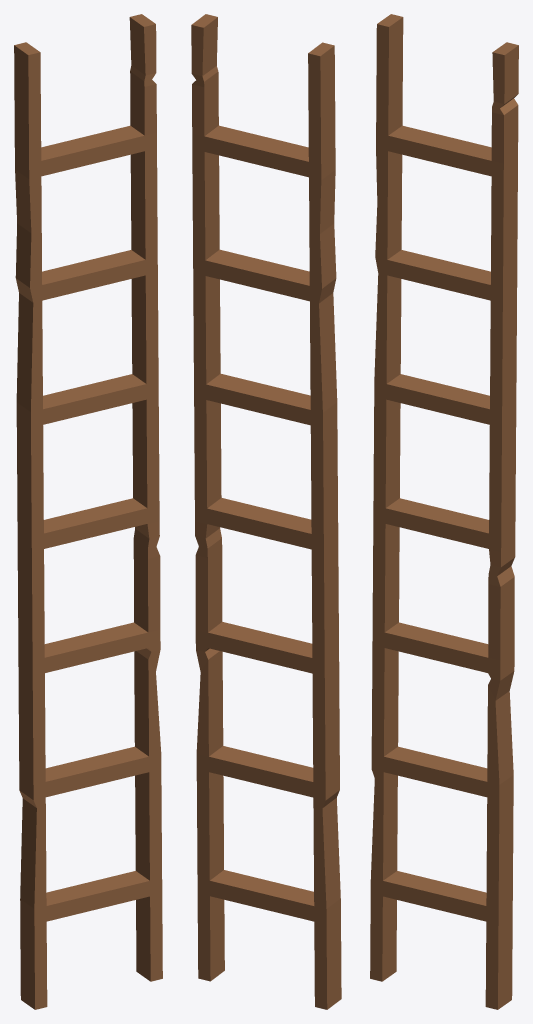
File: quaternius-platformer-ladder-medium.glb
3 renders of one model, left to right at view 1: azimuth 30°, elevation 25°; view 2: azimuth 150°, elevation 25°; view 3: azimuth 330°, elevation 25°, orthographic.
Parts seen in each view (by area): view 1: Ladder_medium; view 2: Ladder_medium; view 3: Ladder_medium.
Boxes of the visible parts, x1=… form: Ladder_medium: x1=14, y1=14, x2=162, y2=1009; Ladder_medium: x1=191, y1=14, x2=341, y2=1009; Ladder_medium: x1=370, y1=14, x2=518, y2=1009.
Size of the model in its own units: 0.6328 by 4.5 by 0.18.
